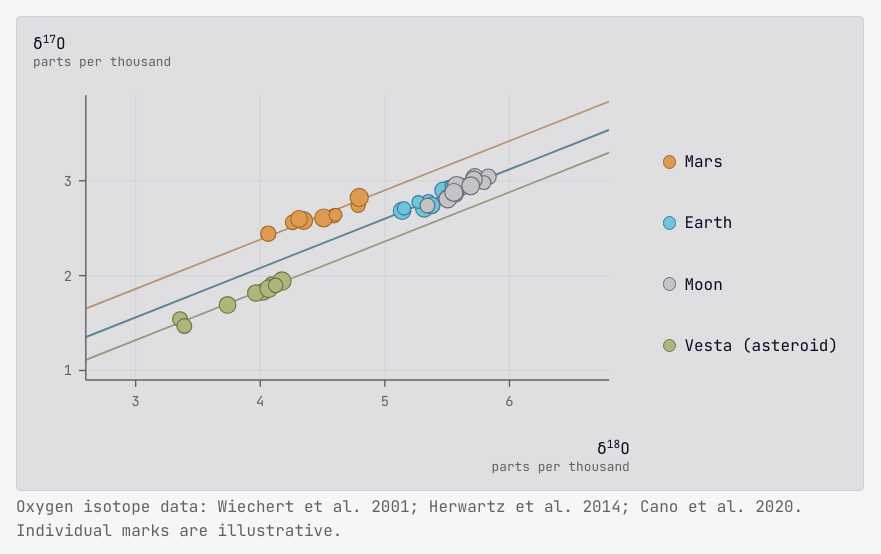
Scenario: IsotopeMatchPlot › should toggle the card closed when the same control is activated again
Step 1. Click the button "Mars" → (750, 162), box [654,139,847,184]
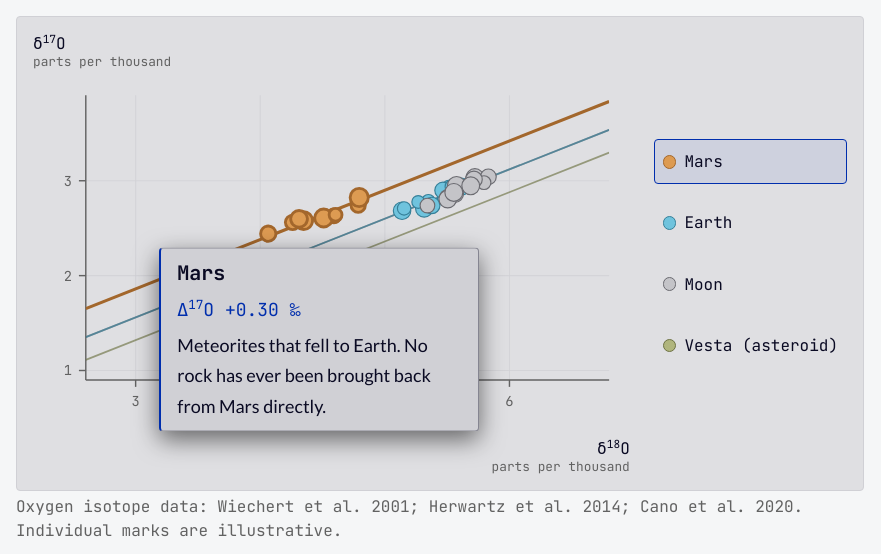
Check: the text "Meteorites that fell to Earth. No rock has ever been brought back from Mars directly." is shown, box [177,334,431,417]
Step 2. Click the button "Mars" → (750, 162), box [654,139,847,184]
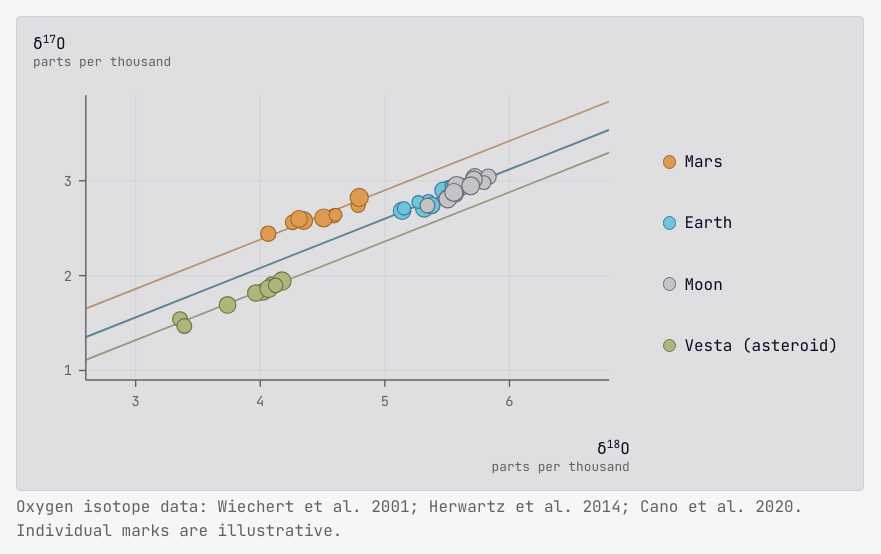
Check: the text "Meteorites that fell to Earth. No rock has ever been brought back from Mars directly." is not shown
